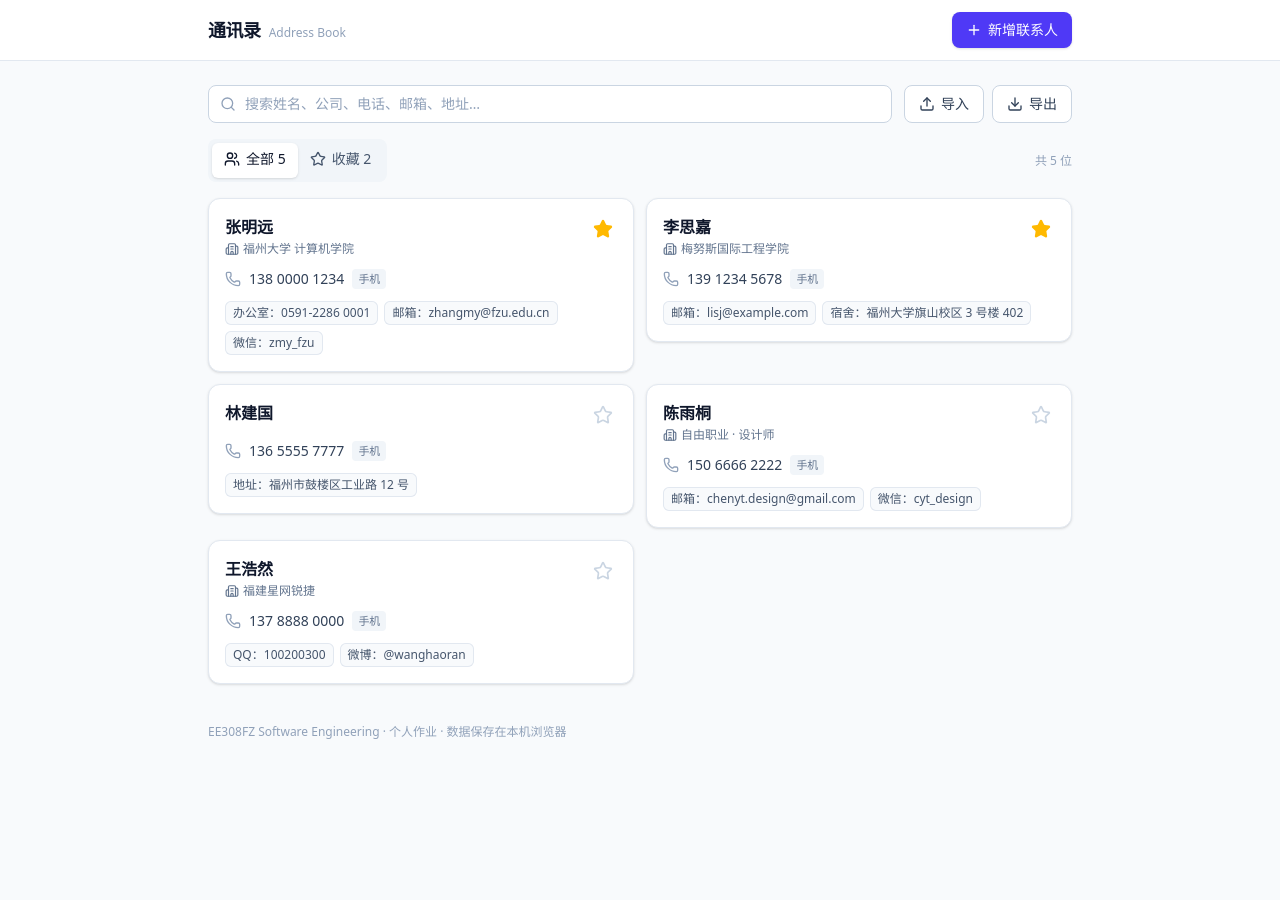
Test: 页面冒烟测试 › 点星标切换收藏并落到本地存储
Click the button named "收藏 王浩然": (603, 571) [589,557,617,585]
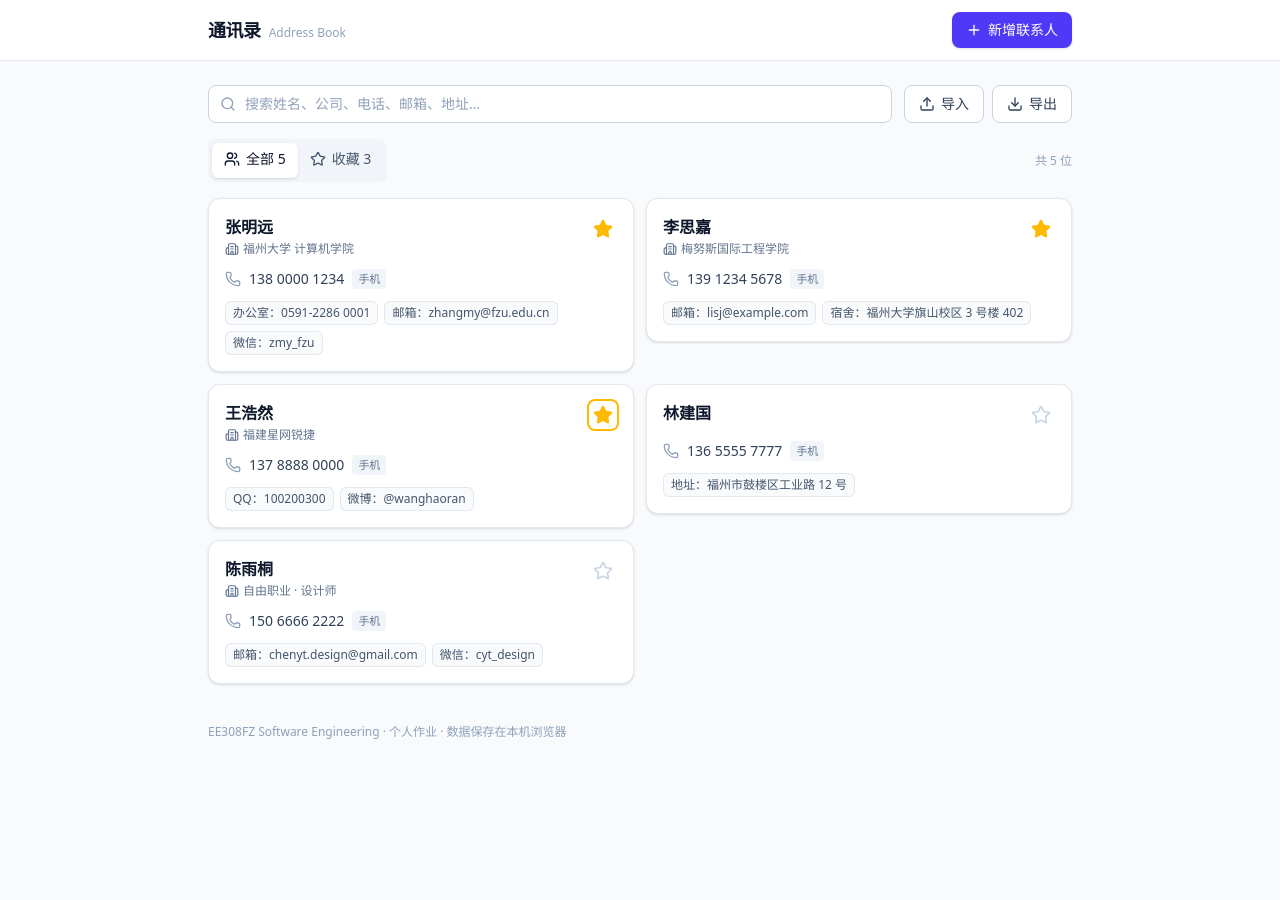
Expected: the button named "取消收藏 王浩然" is shown, [589,401,617,429]
